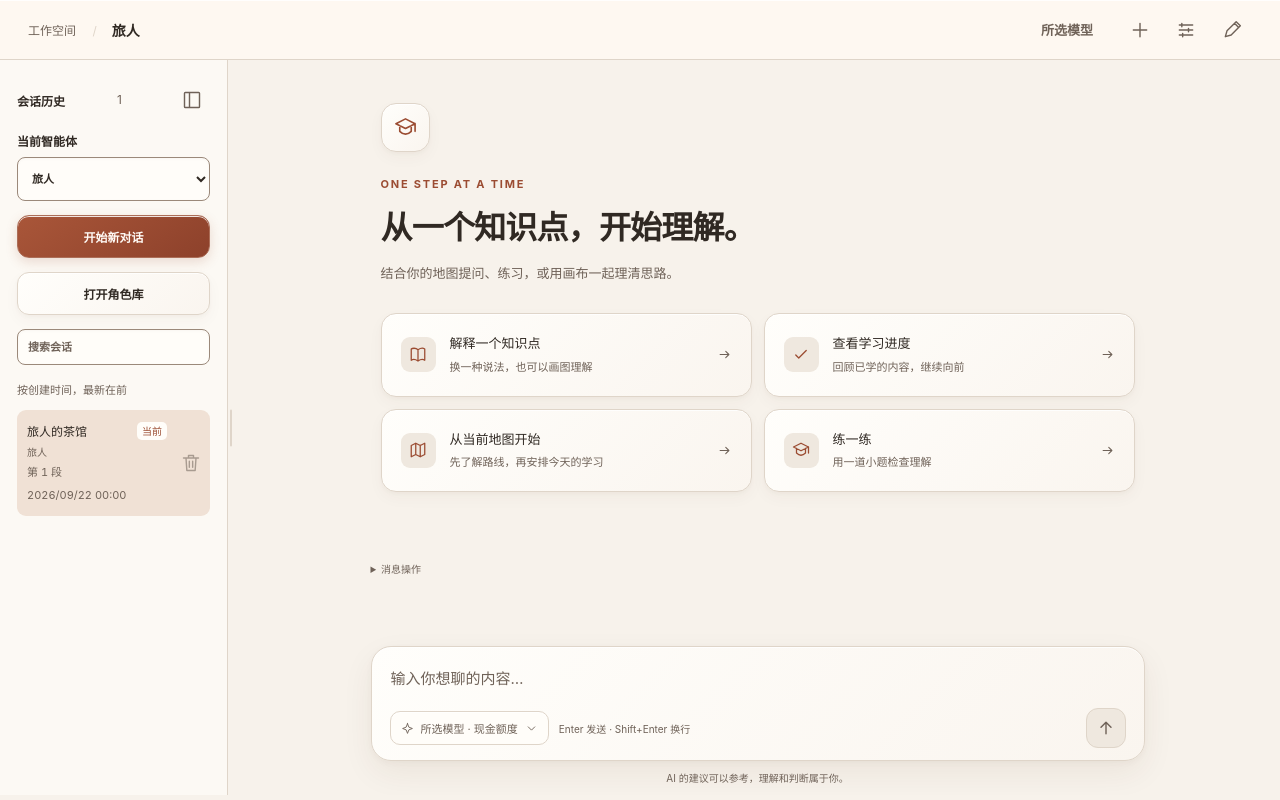
Test: keeps one outgoing question after completion, including when history delivery succeeds=true
The width and height of the screenshot is (1280, 800).
Expected: the heading "消息操作" is shown, [381,563,421,575]
Type "请用画布介绍这个知识点" into the text box named "消息" at (758, 686), box [390,664,1126,708]
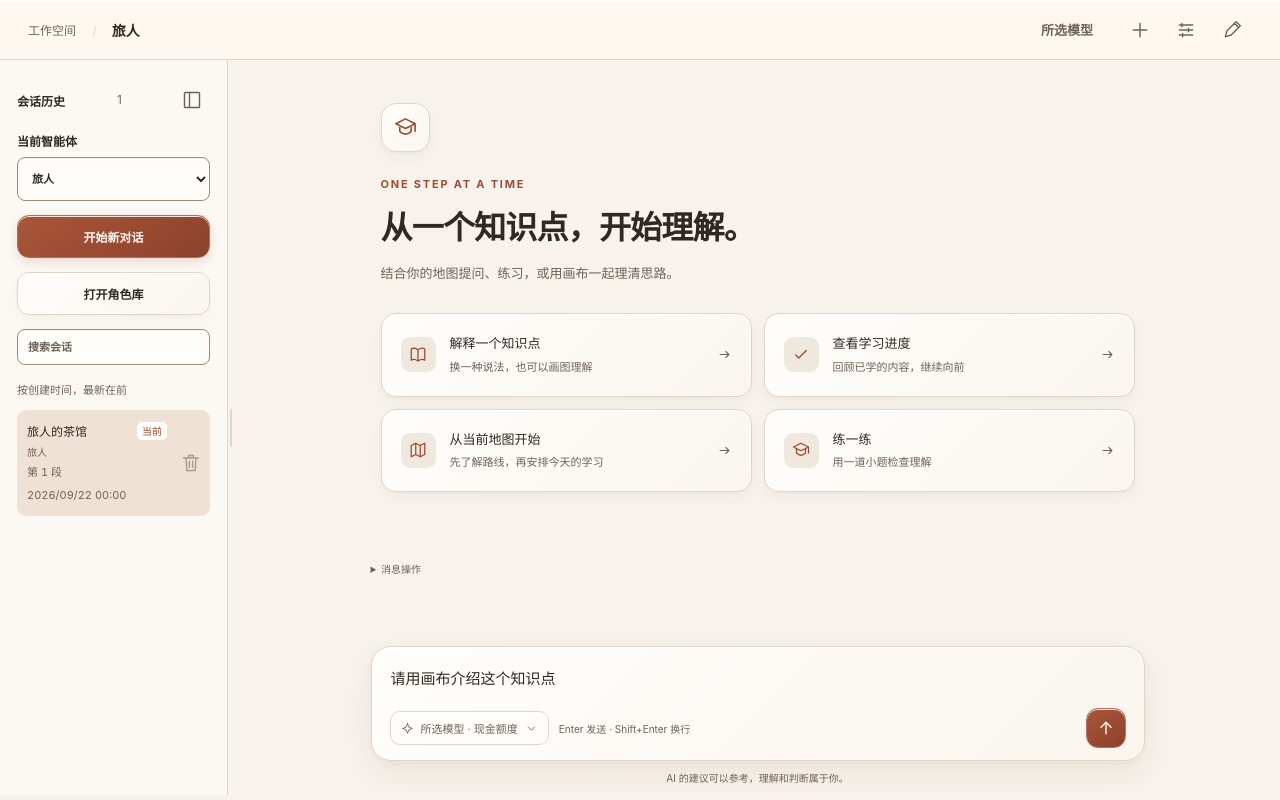
Click the button named "发送" at (1106, 728), box [1086,708,1126,748]
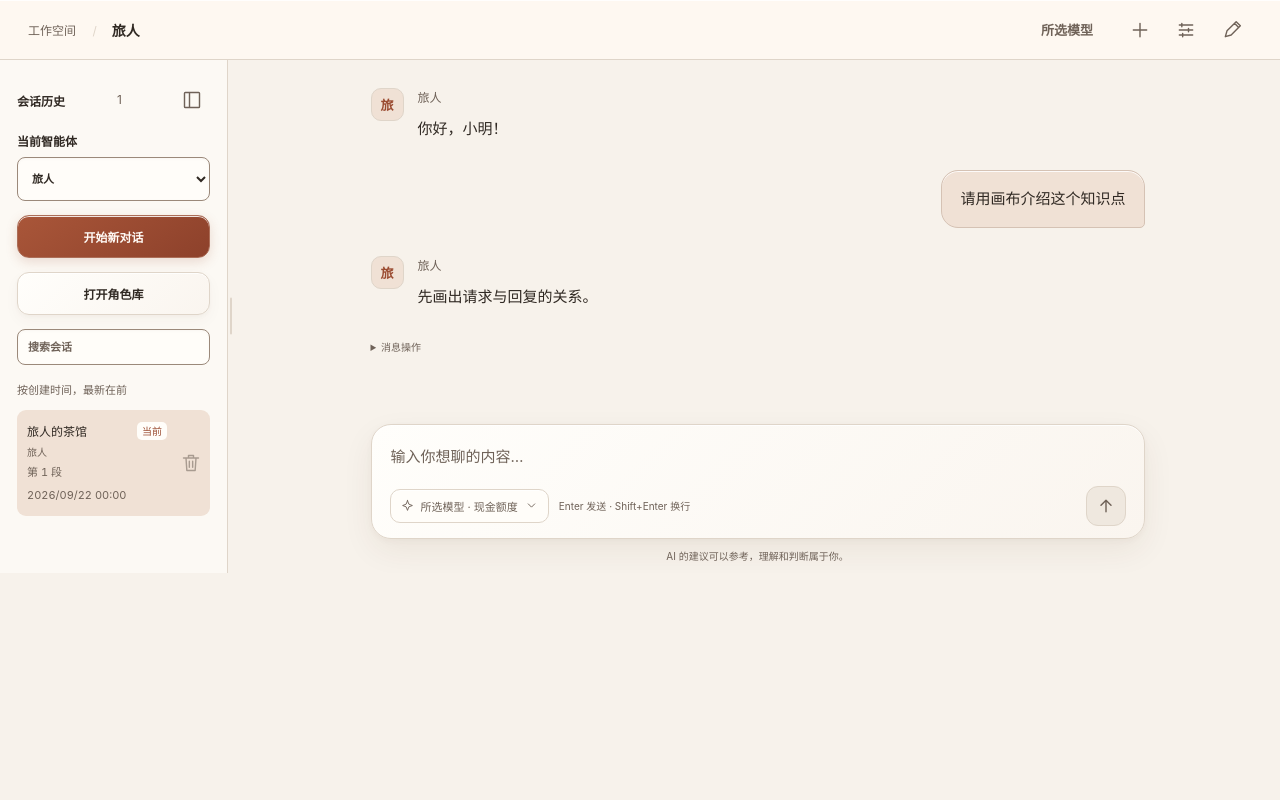
Now the text "先画出请求与回复的关系。" is shown, box [418,286,598,306]
Now the text "请用画布介绍这个知识点" is shown once, box [960,184,1126,214]
